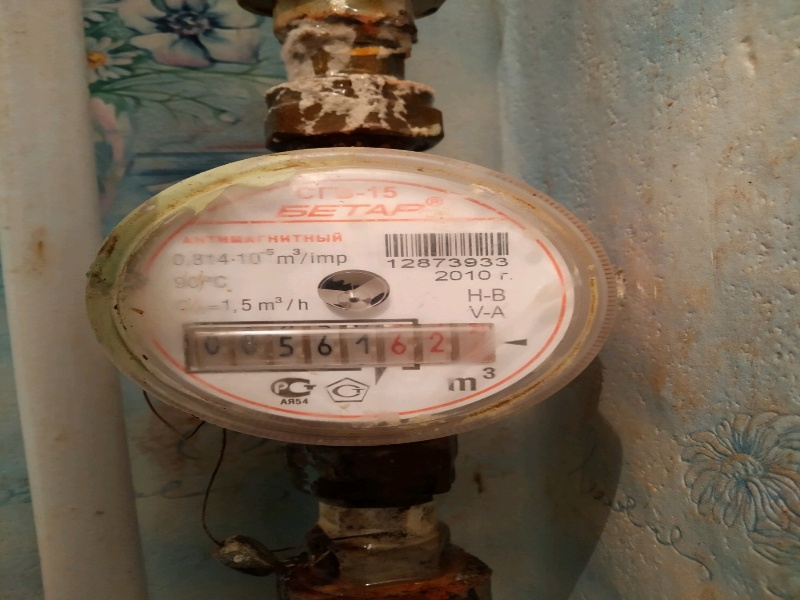meter: (173, 321, 496, 367)
